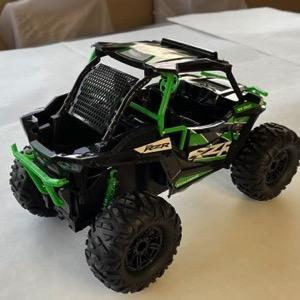polaris: (9, 36, 299, 295)
